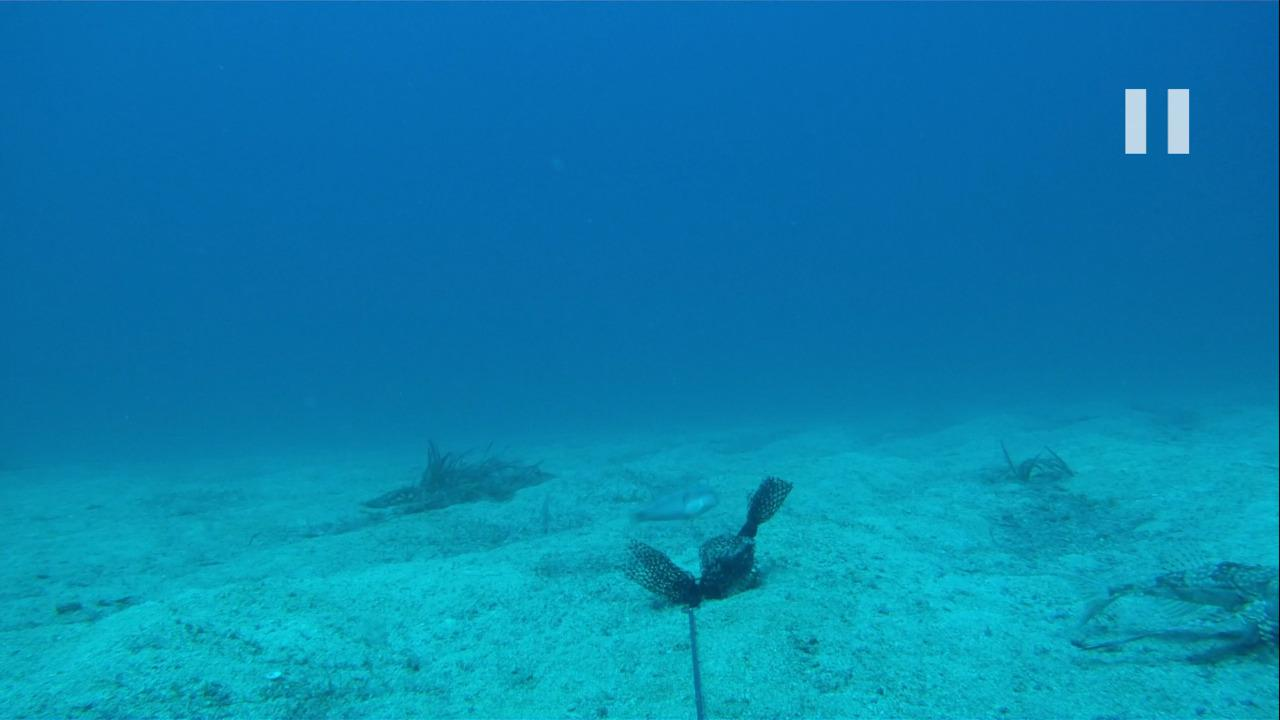dactylopterus: (1069, 555, 1279, 660)
raor: (626, 477, 718, 517)
